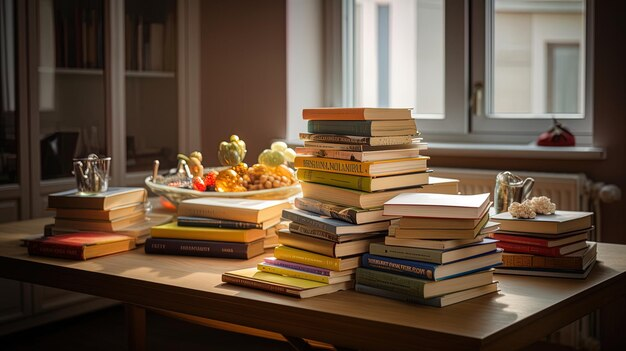not a gesture sign: (274, 245, 359, 271), (233, 164, 272, 178)
